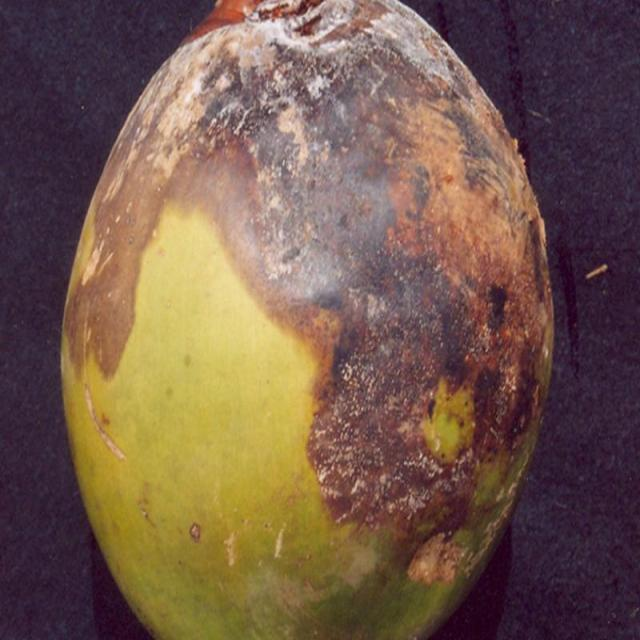damaged: (58, 0, 555, 639)
